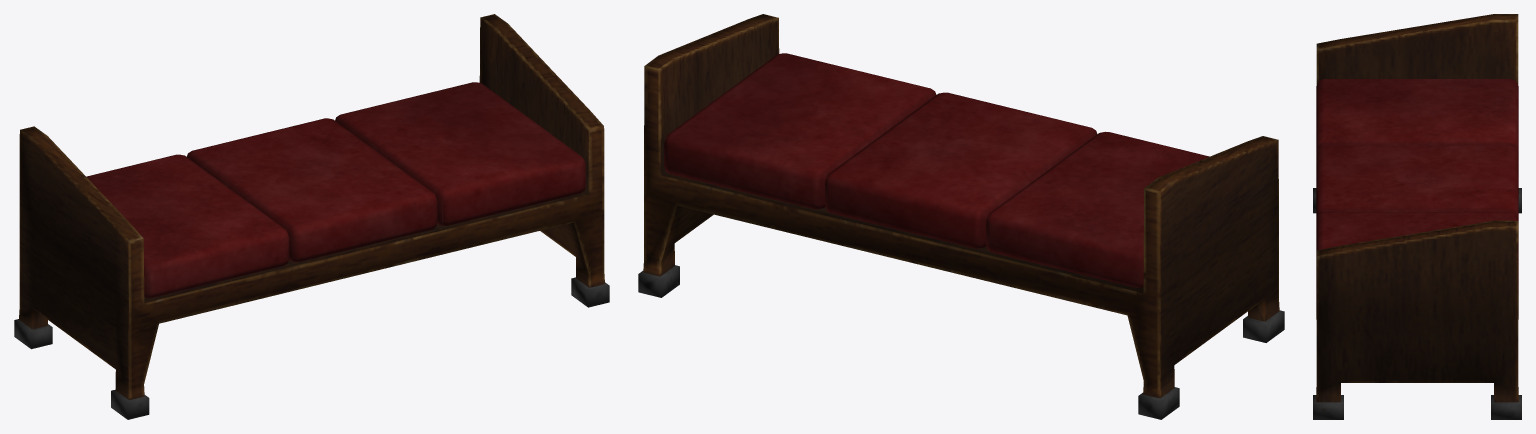
File: Bench_Long_2.fbx
3 renders of one model, left to right at view 1: azimuth 30°, elevation 25°; view 2: azimuth 150°, elevation 25°; view 3: azimuth 270°, elevation 25°, orthographic. The views are drawn at different scales.
Visible parts, largest first — view 1: R_BenchT1_2; view 2: R_BenchT1_2; view 3: R_BenchT1_2.
Part boxes in pixels (bbox=[...]): R_BenchT1_2: bbox=[14, 14, 609, 419]; R_BenchT1_2: bbox=[638, 14, 1284, 419]; R_BenchT1_2: bbox=[1313, 14, 1521, 419].
Bounding box in the file's own units: 188 × 77.87 × 76.81.
Materials: 1 (1 with a texture image).
